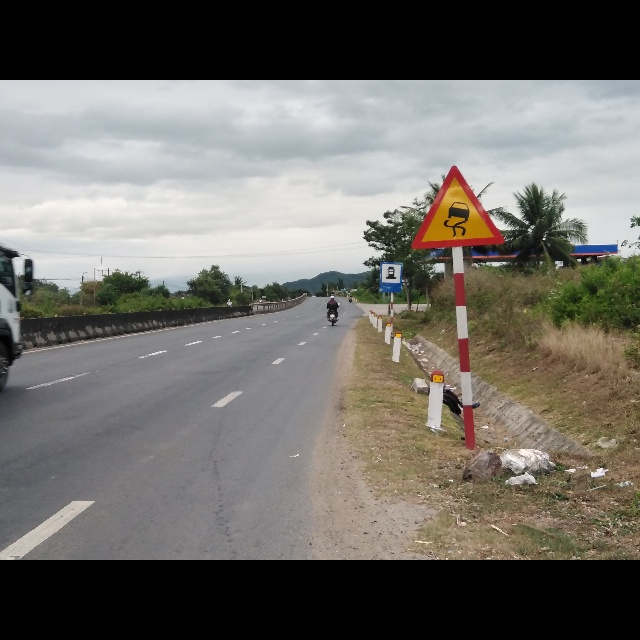Đường trơn trượt: (407, 164, 506, 252)
